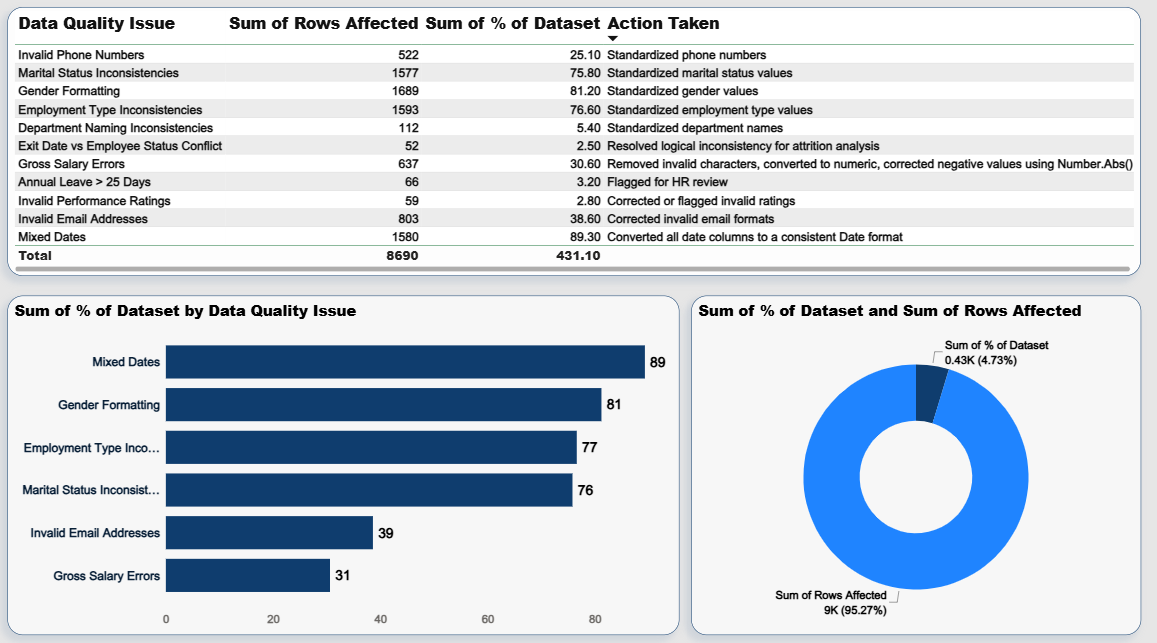

Layout of this report page (visuals, bound fields, positions):
{"tool":"powerbi","page":{"name":"Page 4","canvas":[1800,1000],"ordinal":2},"visuals":[{"type":"clusteredBarChart","fields":{"Y":["Sum(Data_Quality_Summary.% of Dataset)"],"Category":["Data_Quality_Summary.Data Quality Issue"]},"box":[16,464,1034,522],"z":0},{"type":"donutChart","fields":{"Y":["Sum(Data_Quality_Summary.% of Dataset)","Sum(Data_Quality_Summary.Rows Affected)"]},"box":[1068,464,692,522],"z":1000},{"type":"tableEx","fields":{"Values":["Data_Quality_Summary.Data Quality Issue","Sum(Data_Quality_Summary.Rows Affected)","Sum(Data_Quality_Summary.% of Dataset)","Data_Quality_Summary.Action Taken"]},"box":[16,20,1744,414],"z":2000}]}

Visuals, with their boxes in screenshot pixels (x1, y1, x2, y2), scaled from the page's 1800x1000 canvas onto the 1157x643 screenshot:
clusteredBarChart - Sum(Data_Quality_Summary.% of Dataset) x Data_Quality_Summary.Data Quality Issue: bbox=[10, 298, 675, 634]
donutChart - Sum(Data_Quality_Summary.% of Dataset) x Sum(Data_Quality_Summary.Rows Affected): bbox=[686, 298, 1131, 634]
tableEx - Data_Quality_Summary.Data Quality Issue x Sum(Data_Quality_Summary.Rows Affected): bbox=[10, 13, 1131, 279]
